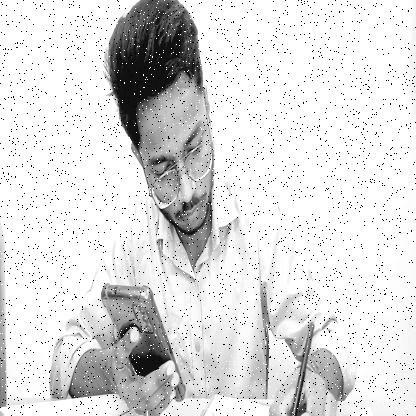Distracted: (107, 0, 217, 240)
